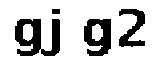2: (117, 5, 150, 51)
g: (7, 14, 45, 60), (78, 14, 112, 60)
j: (42, 9, 67, 60)
